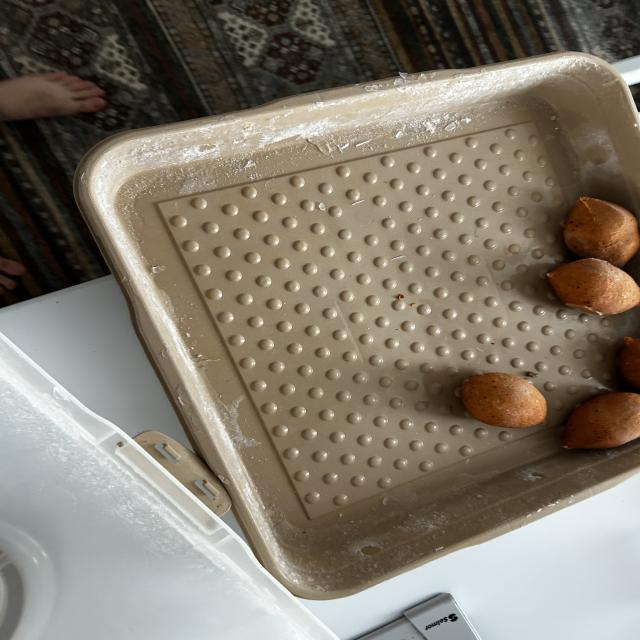kobi: (542, 256, 640, 316), (455, 373, 547, 430), (573, 193, 639, 266), (564, 391, 638, 453)
